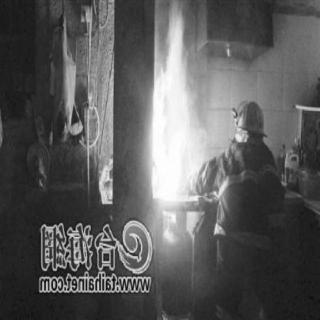Fire: (151, 6, 211, 238)
other: (29, 138, 52, 196), (1, 115, 7, 149)
